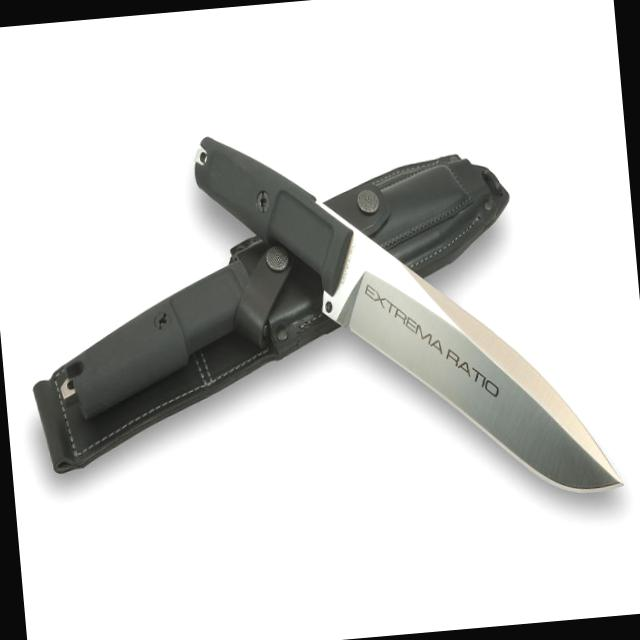knife: (312, 199, 638, 532)
